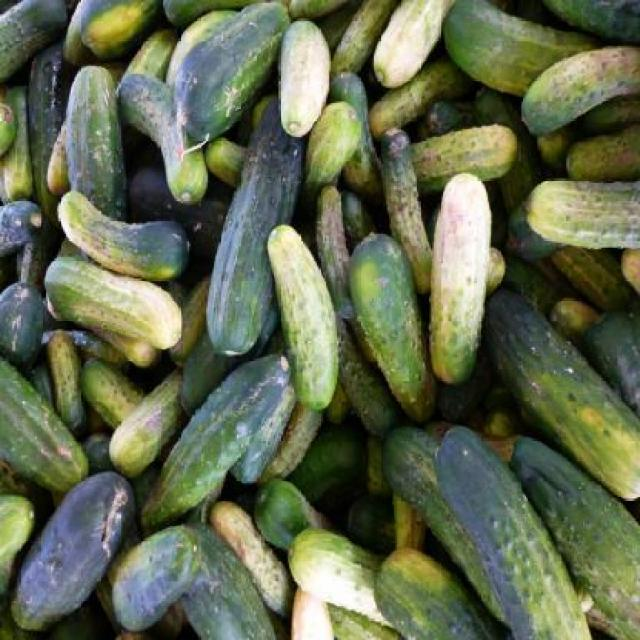Cucumber: (0, 0, 638, 638), (266, 220, 342, 423), (0, 352, 89, 494)
